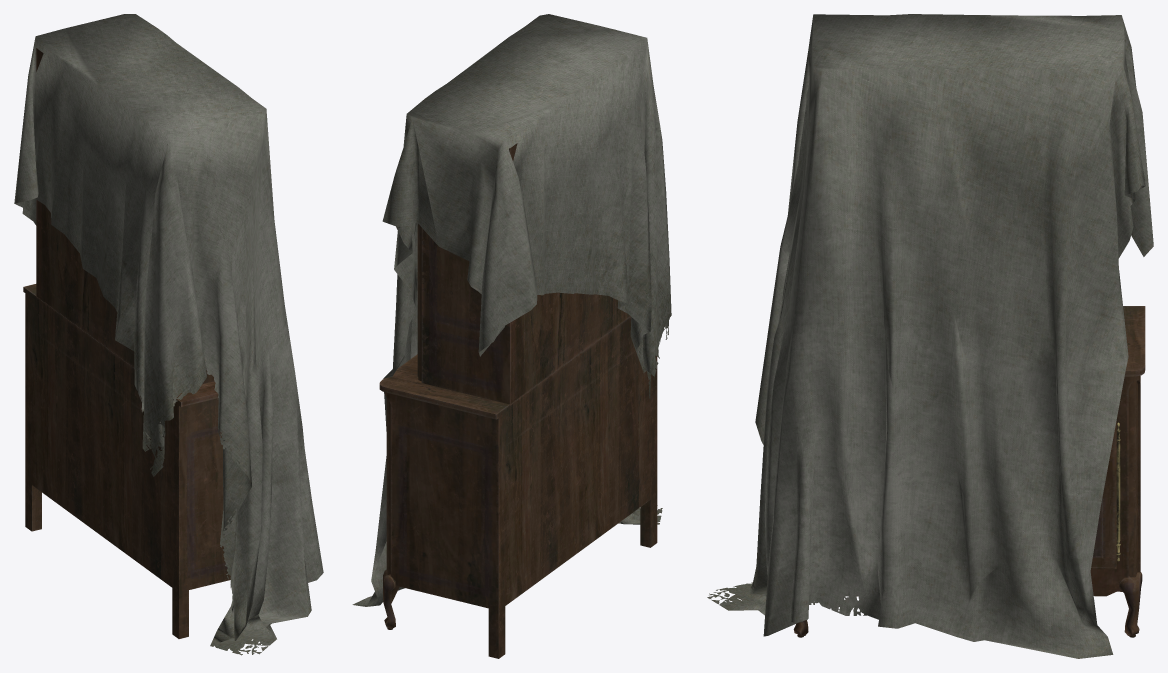
Rendered from CabinetCover.fbx.
3 renders of one model, left to right at view 1: azimuth 30°, elevation 25°; view 2: azimuth 150°, elevation 25°; view 3: azimuth 270°, elevation 25°, orthographic. The views are drawn at different scales.
Parts seen in each view (by area): view 1: SM_CabinetCover_LOD0; view 2: SM_CabinetCover_LOD0; view 3: SM_CabinetCover_LOD0.
Part boxes in pixels (box(x1,y1,x2,y2)): SM_CabinetCover_LOD0: box(14, 14, 323, 655); SM_CabinetCover_LOD0: box(352, 14, 671, 658); SM_CabinetCover_LOD0: box(707, 14, 1153, 658).
Bounding box in the file's own units: 93.49 × 250 × 183.
